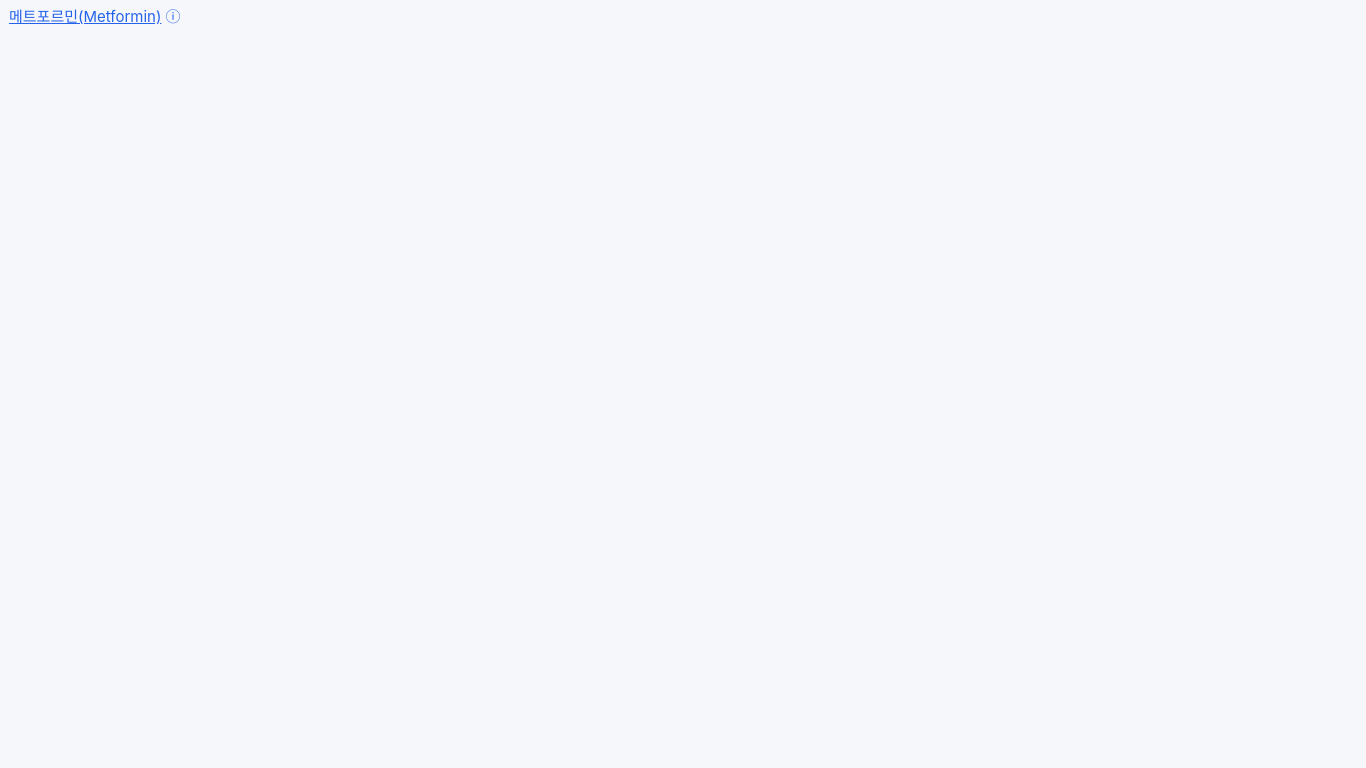
Scenario: MedicationDialog › has an explicit close button that closes the dialog and returns focus to the medication button
The image size is (1366, 768).
Click the button "메트포르민(Metformin) ⓘ". click: {"x": 95, "y": 17}
box: [0,0,189,33]
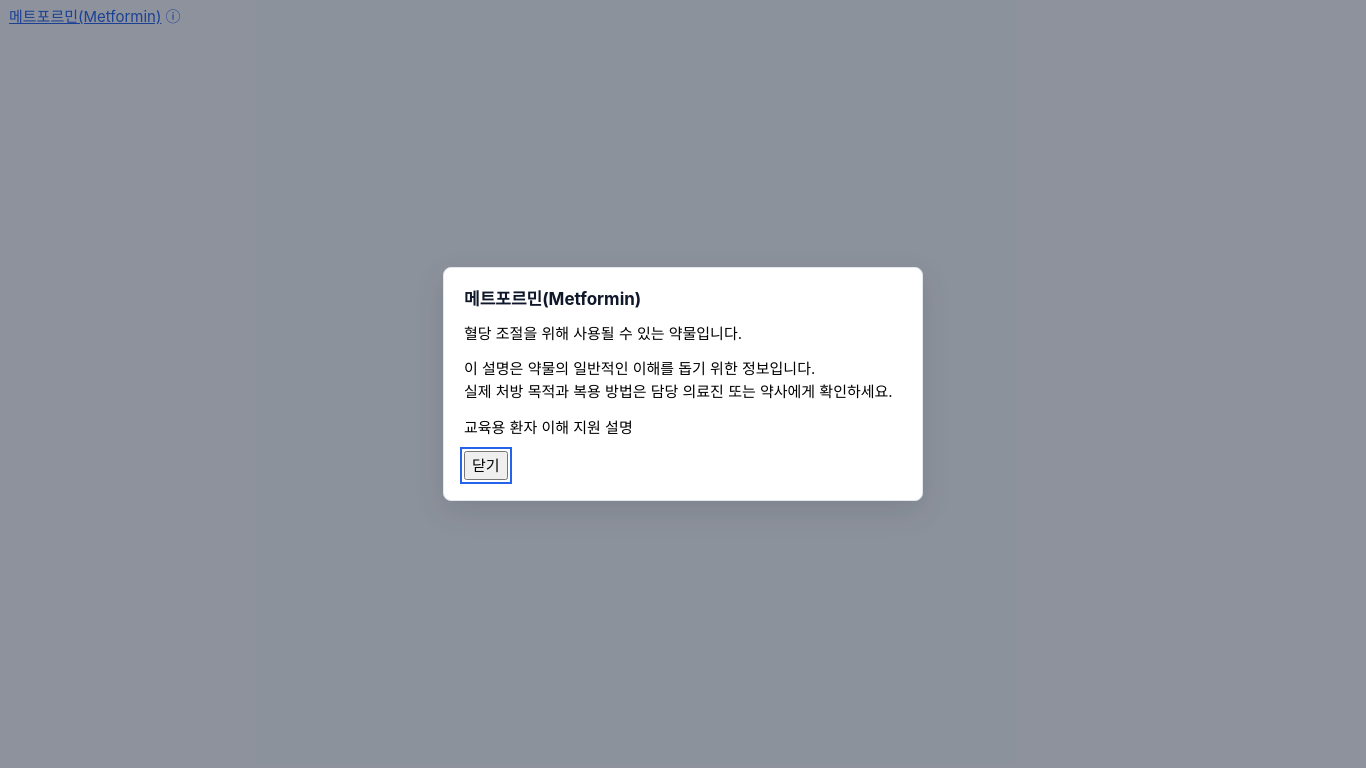
Click the button "닫기". click: {"x": 486, "y": 466}
box: [464,451,508,480]
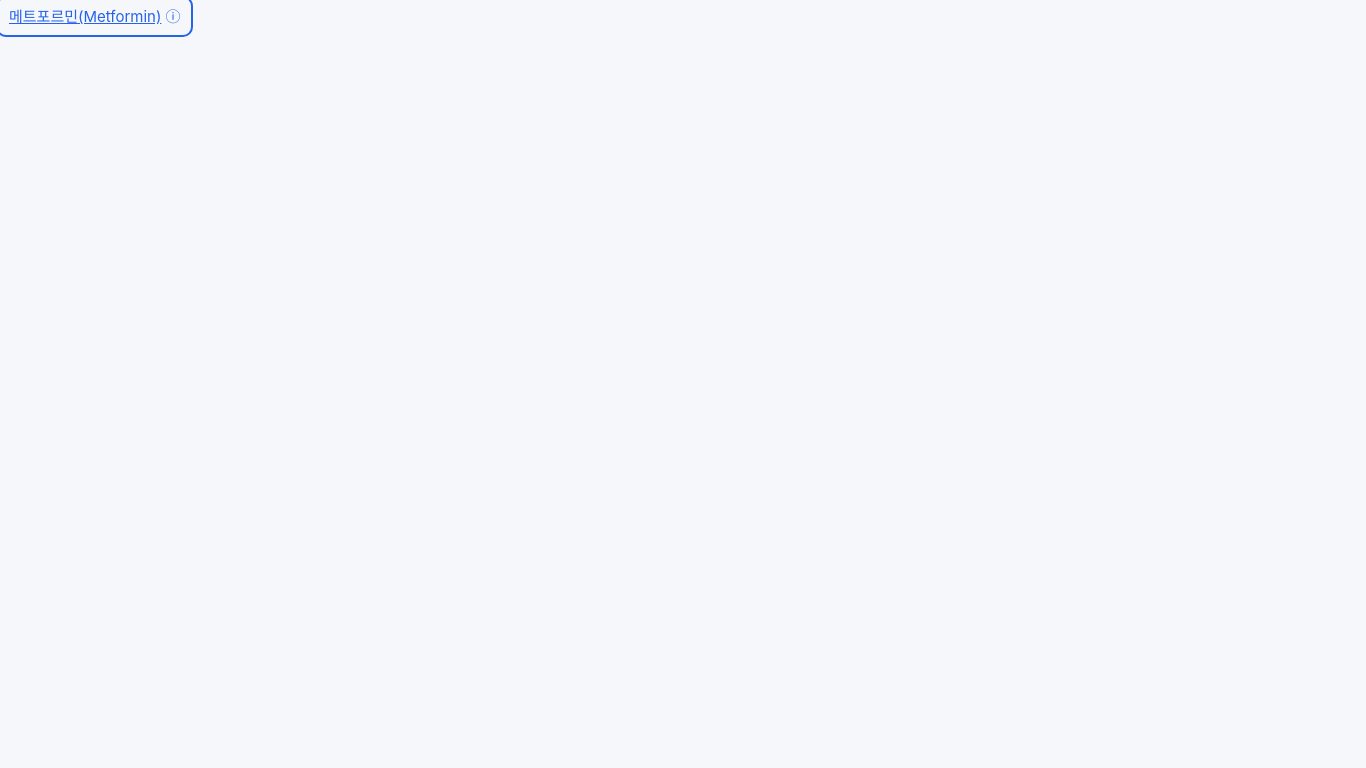
Now the dialog is gone
